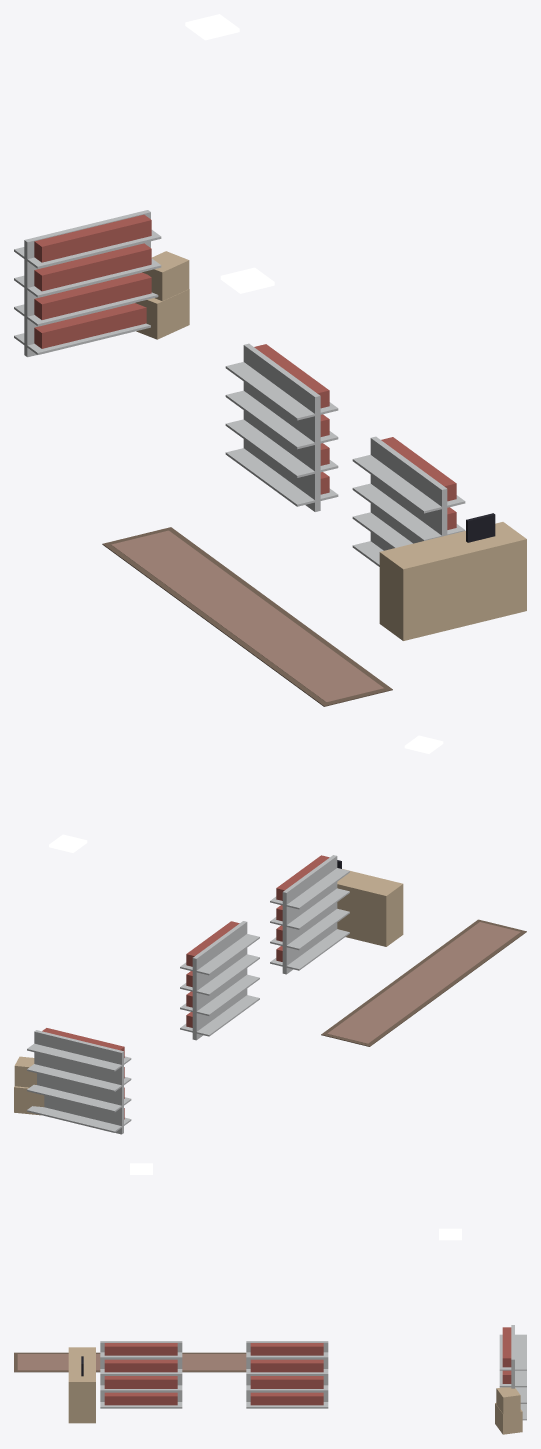
The model's file is fine-s0.glb.
3 views of the same model, one above another, from view 1: azimuth 30°, elevation 25°; view 2: azimuth 150°, elevation 25°; view 3: azimuth 270°, elevation 25° (orthographic). The views are drawn at different scales.
Parts seen in each view (by area): view 1: shelving.000, soft-s0, shop-counter.000, shelf.000, shelf.001, cardboard-box.000, ceiling-lamp.001, ceiling-lamp.000; view 2: shelving.000, soft-s0, shelf.001, shelf.000, shop-counter.000, cardboard-box.000; view 3: shelf.000, shelf.001, soft-s0, shop-counter.000, shelving.000, cardboard-box.000.
Boxes of the visible parts, x1,y1,x2,y2 form: shelving.000: [14, 210, 161, 357]; soft-s0: [102, 527, 392, 706]; shop-counter.000: [379, 513, 526, 640]; shelf.000: [225, 343, 338, 511]; shelf.001: [352, 436, 465, 566]; cardboard-box.000: [135, 251, 189, 339]; ceiling-lamp.001: [185, 14, 239, 40]; ceiling-lamp.000: [220, 267, 274, 293]; shelving.000: [27, 1028, 131, 1134]; soft-s0: [321, 919, 526, 1046]; shelf.001: [270, 855, 349, 974]; shelf.000: [180, 921, 259, 1040]; shop-counter.000: [337, 860, 403, 946]; cardboard-box.000: [14, 1056, 44, 1115]; shelf.000: [246, 1341, 328, 1408]; shelf.001: [100, 1341, 182, 1408]; soft-s0: [14, 1352, 246, 1372]; shop-counter.000: [68, 1347, 95, 1423]; shelving.000: [499, 1325, 526, 1420]; cardboard-box.000: [495, 1387, 522, 1434].
Size of the model in its own units: 4.23 by 4.71 by 11.24.
